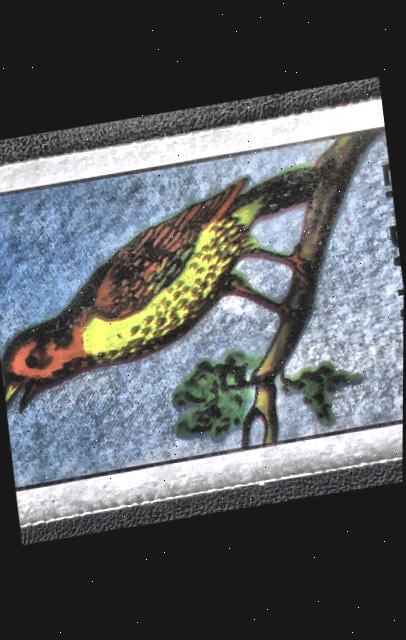El Pajaro: (0, 120, 405, 500)
